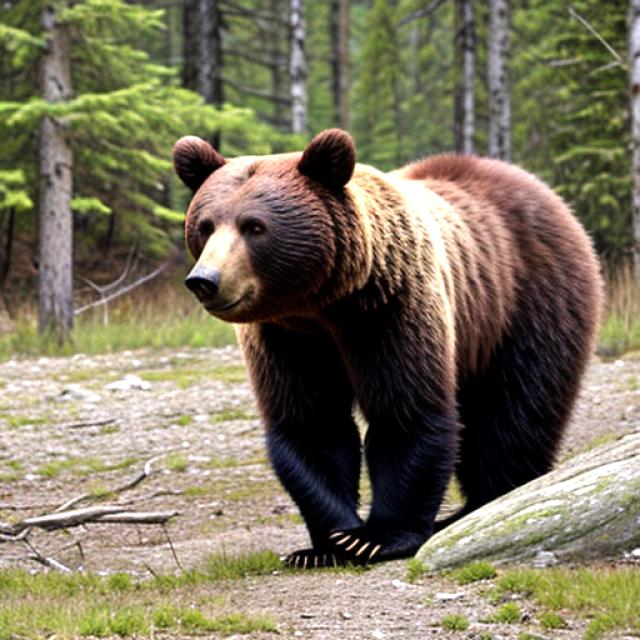bear: (154, 125, 604, 543)
